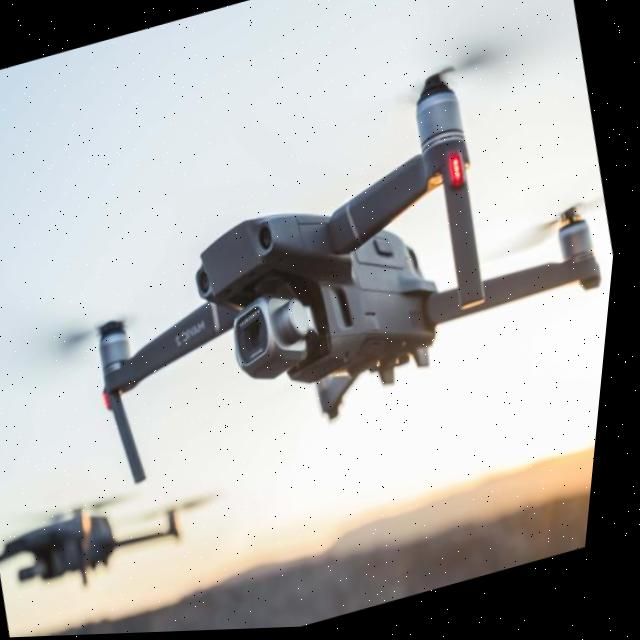drones: (31, 0, 640, 507), (0, 484, 141, 635)
